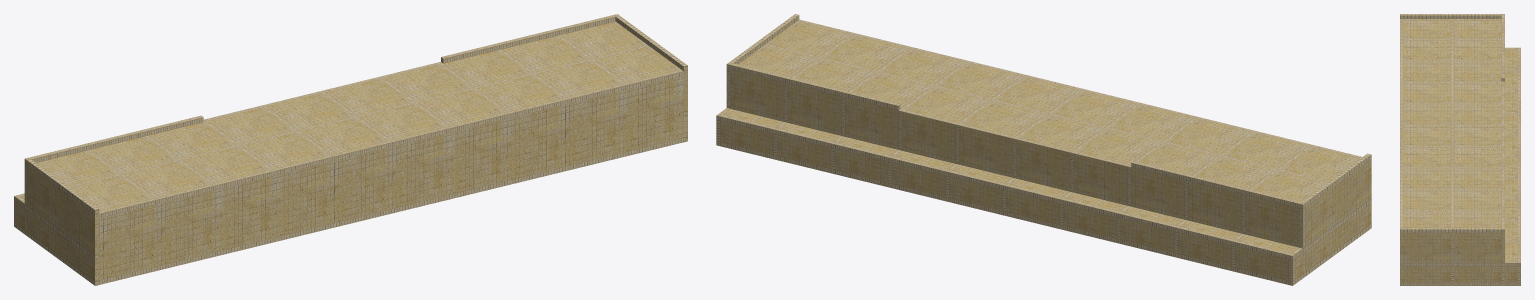
File: tutorial_structure_base_pt01.dae
The picture shows the model from 3 angles, left to right: view 1: azimuth 30°, elevation 25°; view 2: azimuth 150°, elevation 25°; view 3: azimuth 270°, elevation 25°; orthographic projection. The views are drawn at different scales.
Parts seen in each view (by area): view 1: tutorial_structure_base_pt01; view 2: tutorial_structure_base_pt01; view 3: tutorial_structure_base_pt01.
Boxes of the visible parts, bbox=[...] form: tutorial_structure_base_pt01: bbox=[14, 14, 687, 285]; tutorial_structure_base_pt01: bbox=[716, 14, 1371, 285]; tutorial_structure_base_pt01: bbox=[1400, 14, 1520, 285].
Bounding box in the file's own units: 103 × 24.31 × 12.54.
2 materials, 2 textured.
